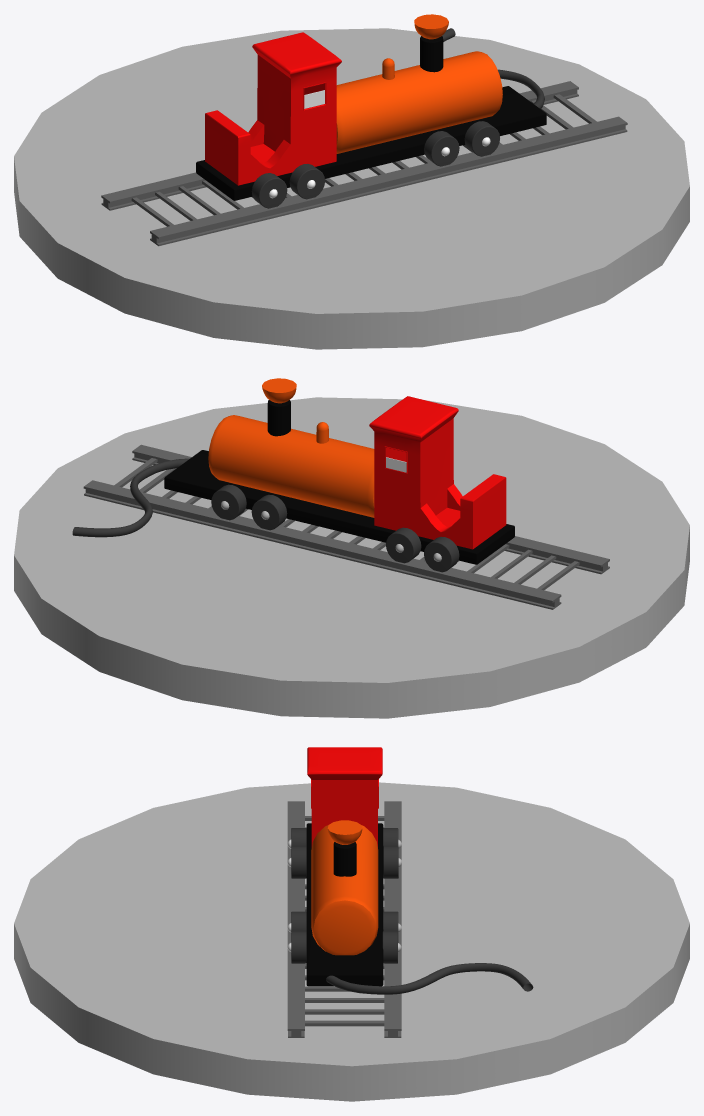
The picture shows the model from 3 angles, top to bottom: view 1: azimuth 30°, elevation 25°; view 2: azimuth 150°, elevation 25°; view 3: azimuth 270°, elevation 25°; orthographic projection.
Visible parts, largest first — view 1: turntable, pCube2, railway, pCylinder3, pCube1, wheel (×4), pCylinder4, pSphere2, extrudedSurface1; view 2: turntable, pCube2, railway, pCylinder3, pCube1, wheel (×4), extrudedSurface1, pCylinder4, pSphere2; view 3: turntable, railway, pCylinder3, pCube2, pCube1, extrudedSurface1, pCylinder4, pSphere2.
Part boxes in pixels (x1,y1,x2,y2): turntable: [14, 28, 689, 349]; pCube2: [205, 32, 341, 185]; railway: [101, 81, 627, 246]; pCylinder3: [336, 51, 502, 153]; pCube1: [196, 86, 546, 200]; wheel (×4): [251, 121, 499, 208]; pCylinder4: [420, 36, 443, 72]; pSphere2: [414, 14, 448, 39]; extrudedSurface1: [442, 28, 544, 108]; turntable: [14, 397, 689, 718]; pCube2: [369, 396, 506, 549]; railway: [83, 444, 609, 609]; pCylinder3: [208, 415, 374, 517]; pCube1: [164, 450, 514, 564]; wheel (×4): [211, 484, 459, 572]; extrudedSurface1: [72, 458, 189, 537]; pCylinder4: [267, 400, 290, 436]; pSphere2: [262, 378, 296, 403]; turntable: [14, 782, 689, 1101]; railway: [287, 801, 401, 1037]; pCylinder3: [311, 825, 378, 955]; pCube2: [307, 747, 382, 847]; pCube1: [306, 823, 383, 986]; extrudedSurface1: [326, 963, 533, 994]; pCylinder4: [333, 842, 356, 876]; pSphere2: [327, 820, 362, 844].
Bounding box in the file's own units: 77.23 × 21.61 × 77.23.
